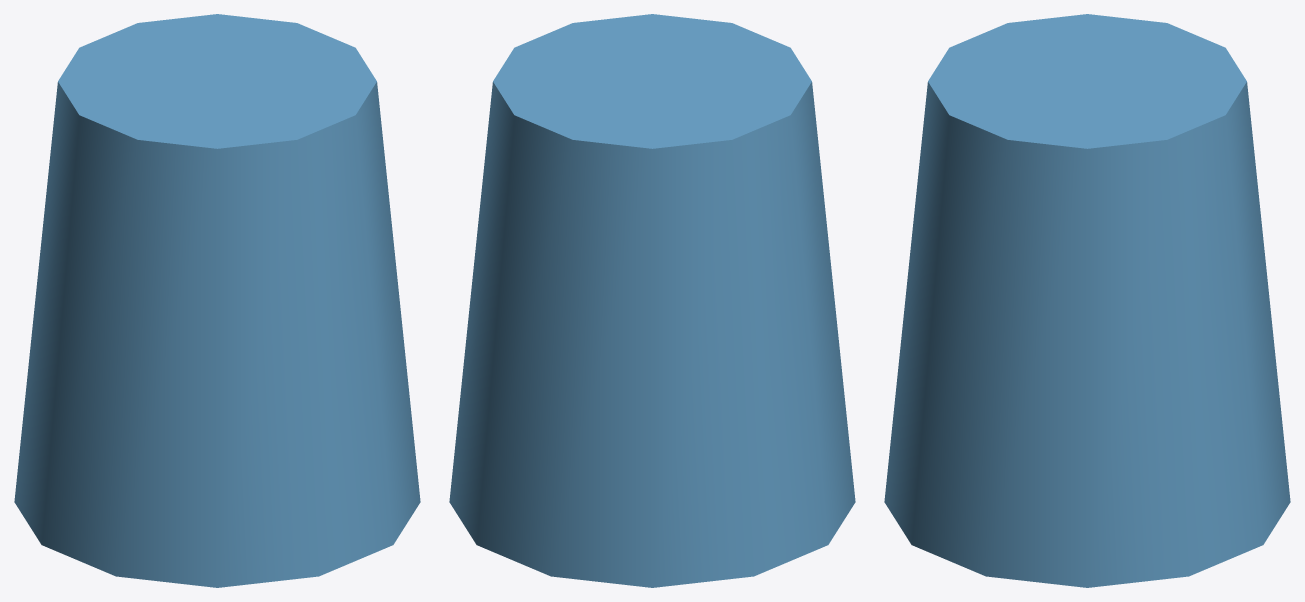
Rendered from column-low.glb.
3 renders of one model, left to right at view 1: azimuth 30°, elevation 25°; view 2: azimuth 150°, elevation 25°; view 3: azimuth 270°, elevation 25°, orthographic.
Size of the model in its own units: 1.4 by 1.6 by 1.4.
